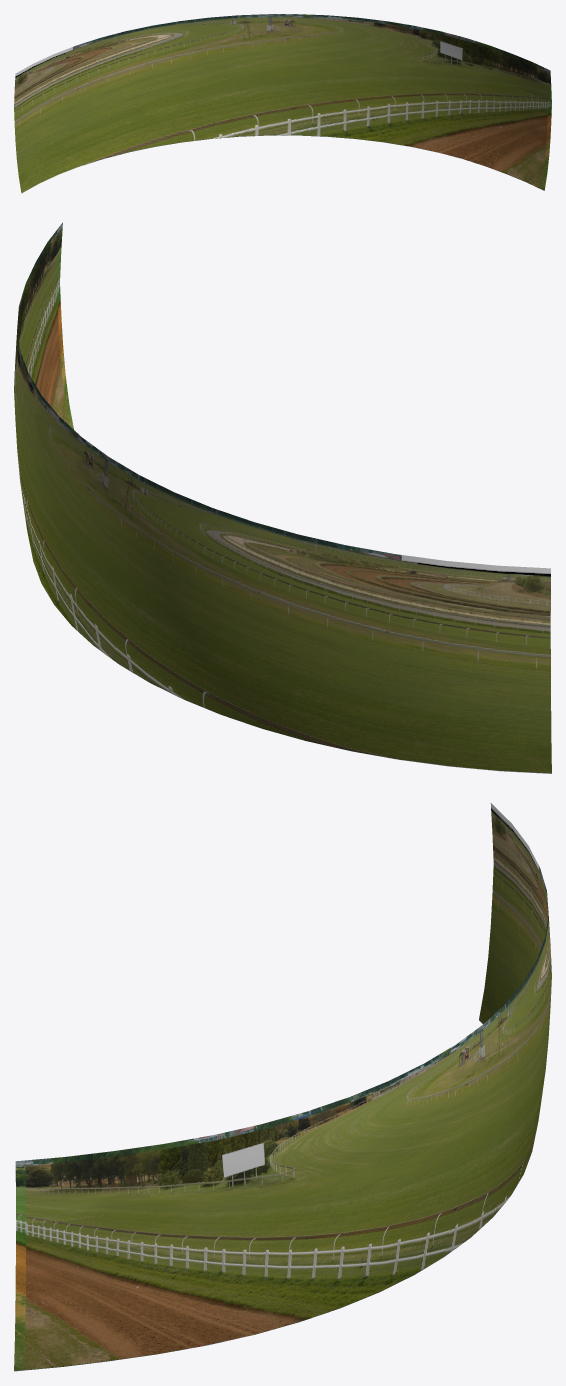
The model's file is PanoramicPlane_Tower3.fbx.
The picture shows the model from 3 angles, top to bottom: view 1: azimuth 30°, elevation 25°; view 2: azimuth 150°, elevation 25°; view 3: azimuth 270°, elevation 25°; orthographic projection. The views are drawn at different scales.
Visible parts, largest first — view 1: polySurface1; view 2: polySurface1; view 3: polySurface1.
Part boxes in pixels (x1=…): polySurface1: x1=14, y1=14, x2=551, y2=193; polySurface1: x1=14, y1=222, x2=551, y2=773; polySurface1: x1=14, y1=803, x2=551, y2=1371.
Bounding box in the file's own units: 315 × 87.78 × 198.
